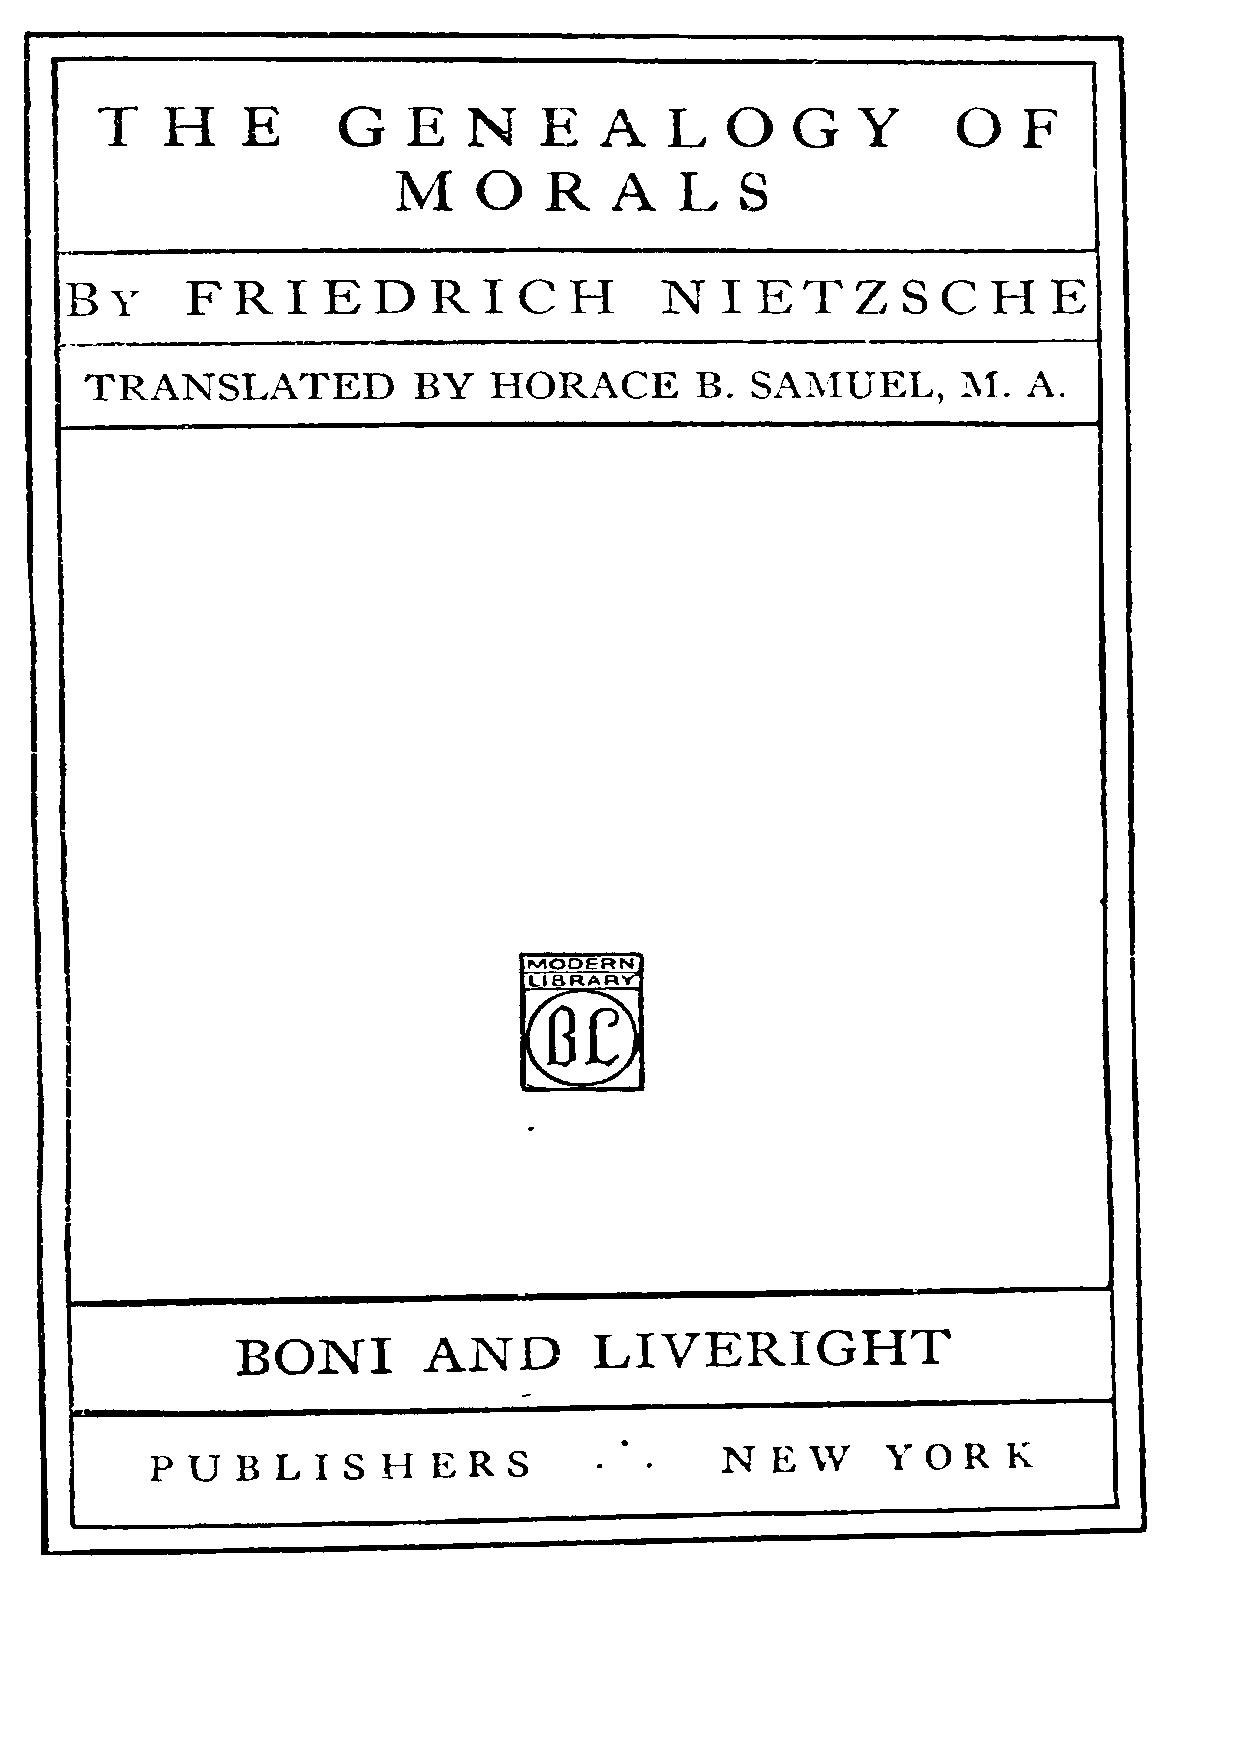author: (64, 276, 1084, 317)
title: (90, 101, 1059, 213)
